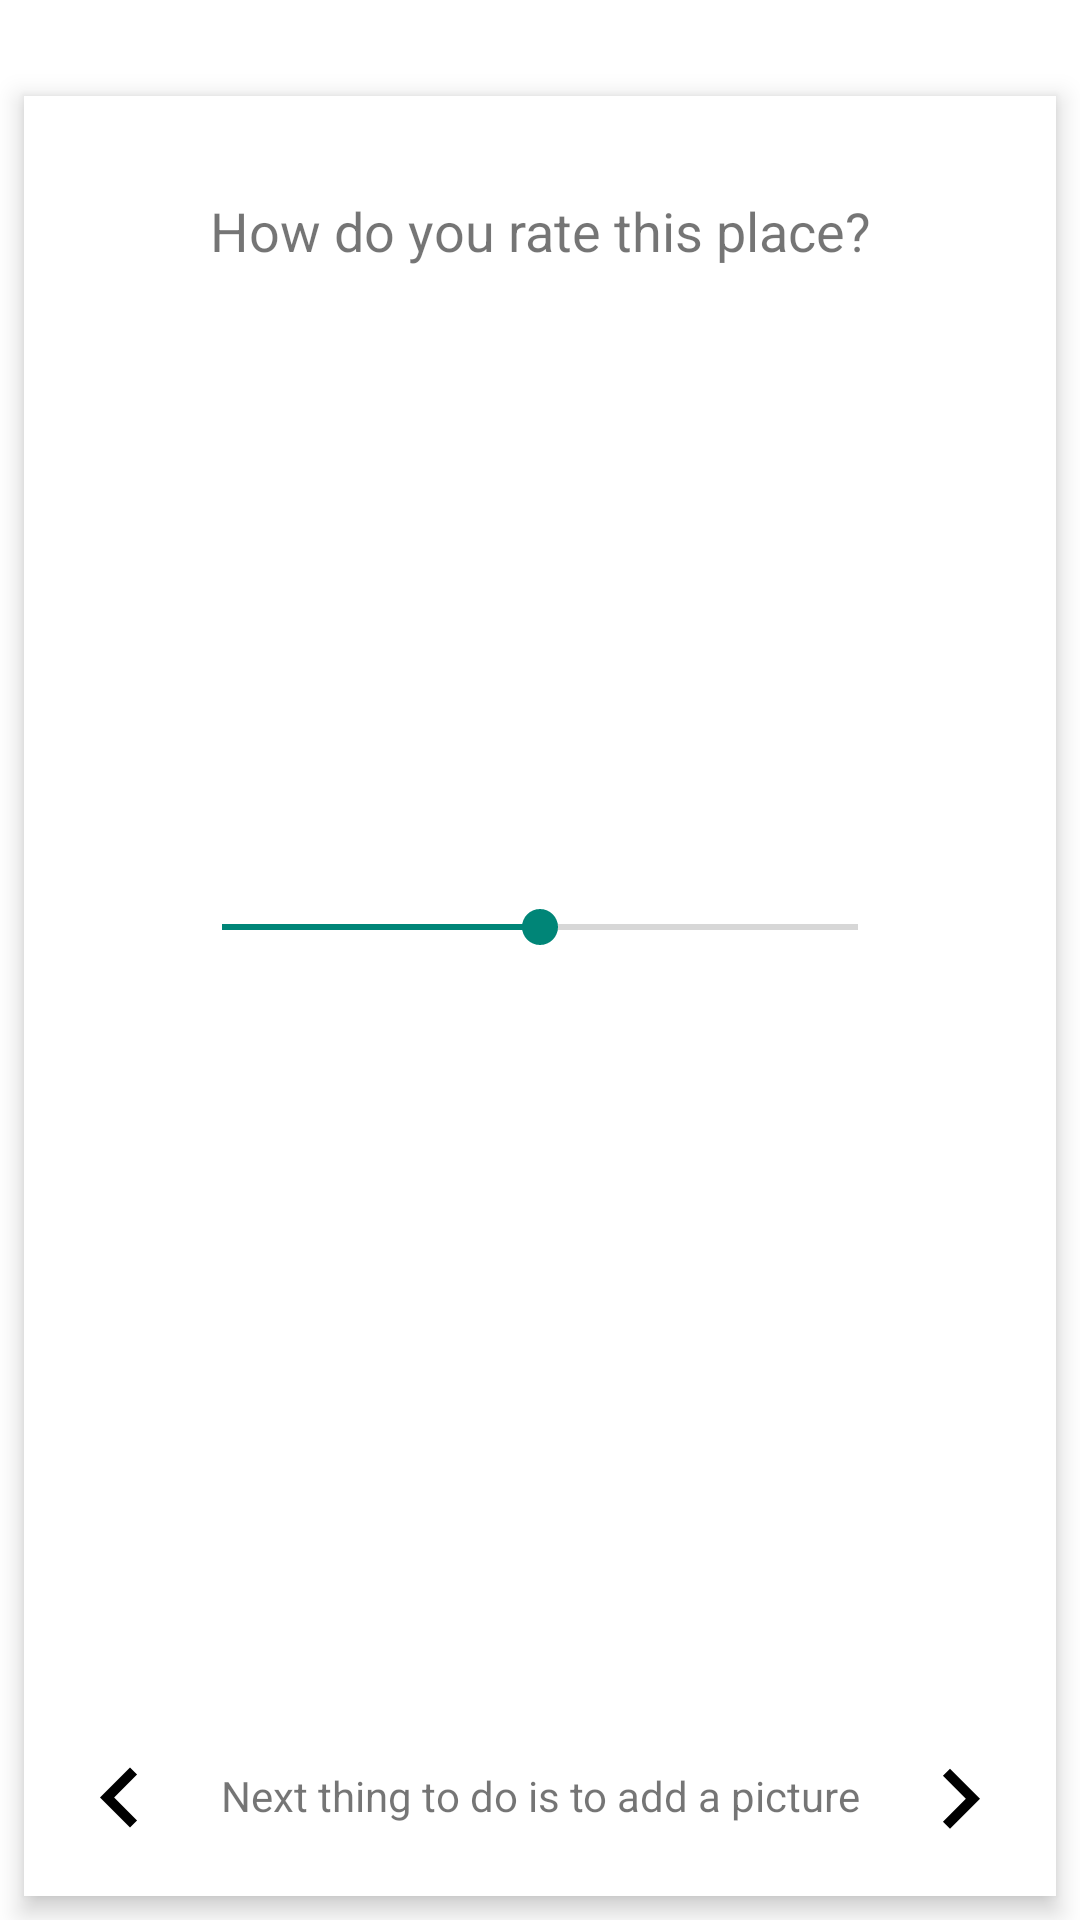

Where icons sit on this 1080w x 1920h app screen, as (x1,y1,x2,y2):
keyboard arrow left: (100,1767,137,1828)
keyboard arrow right: (943,1769,980,1829)
